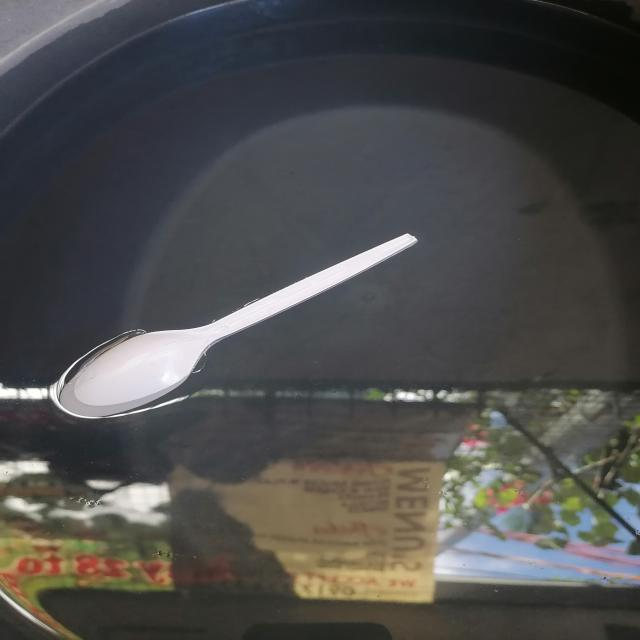Plastic Spoon: (38, 214, 444, 433)
